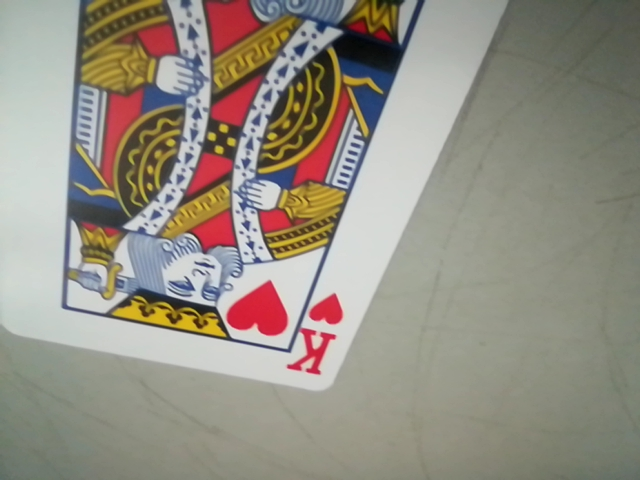hx k: (283, 291, 350, 383)
